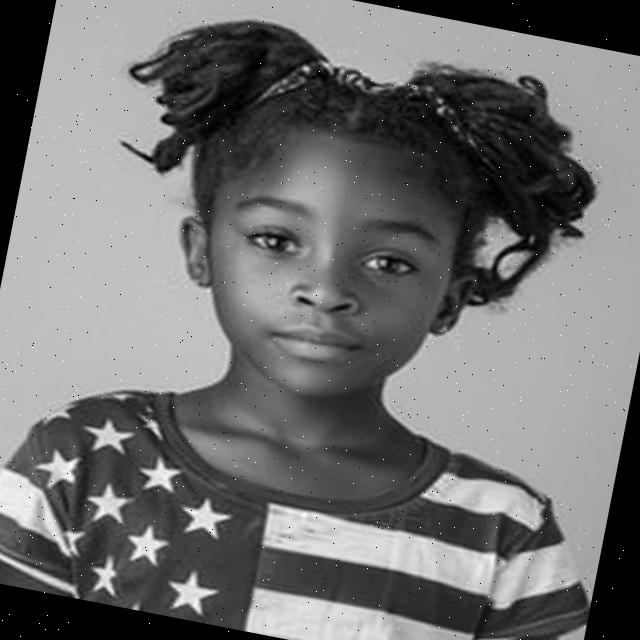Neutral: (184, 119, 472, 419)
